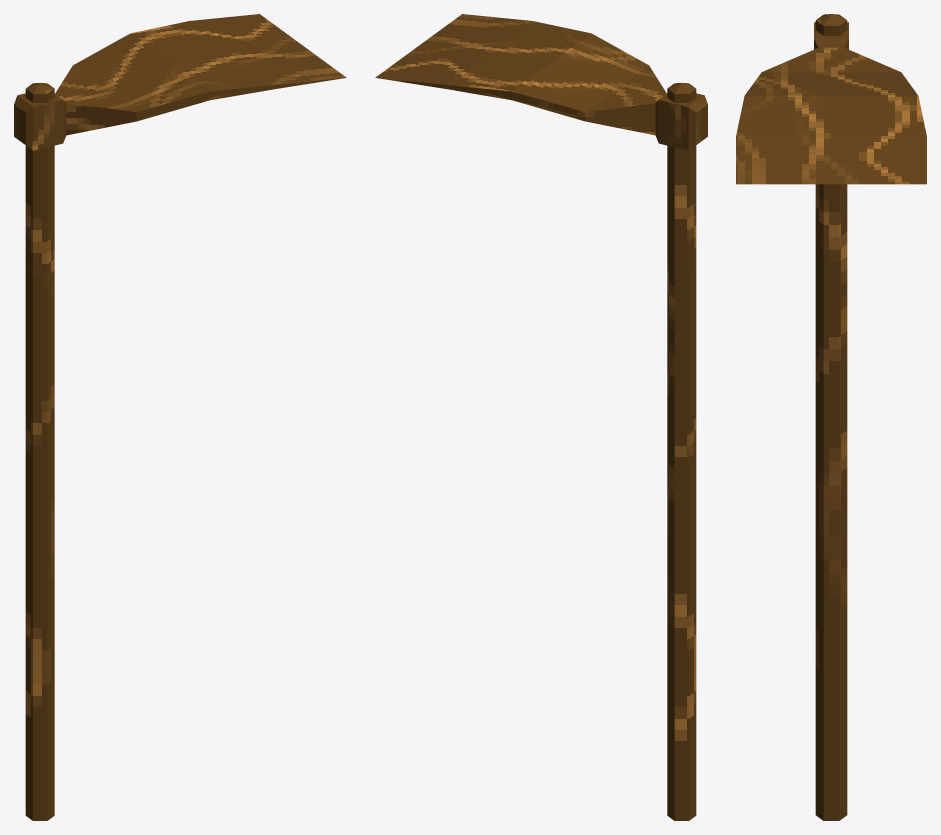
Rendered from hoe.obj.
3 renders of one model, left to right at view 1: azimuth 30°, elevation 25°; view 2: azimuth 150°, elevation 25°; view 3: azimuth 270°, elevation 25°, orthographic. The views are drawn at different scales.
Parts seen in each view (by area): view 1: hoe; view 2: hoe; view 3: hoe.
Boxes of the visible parts, left/top/right/bottom form: hoe: left=14, top=14, right=346, bottom=820; hoe: left=375, top=14, right=707, bottom=820; hoe: left=736, top=14, right=926, bottom=820.
Size of the model in its own units: 0.8036 by 1.99 by 0.4284.
